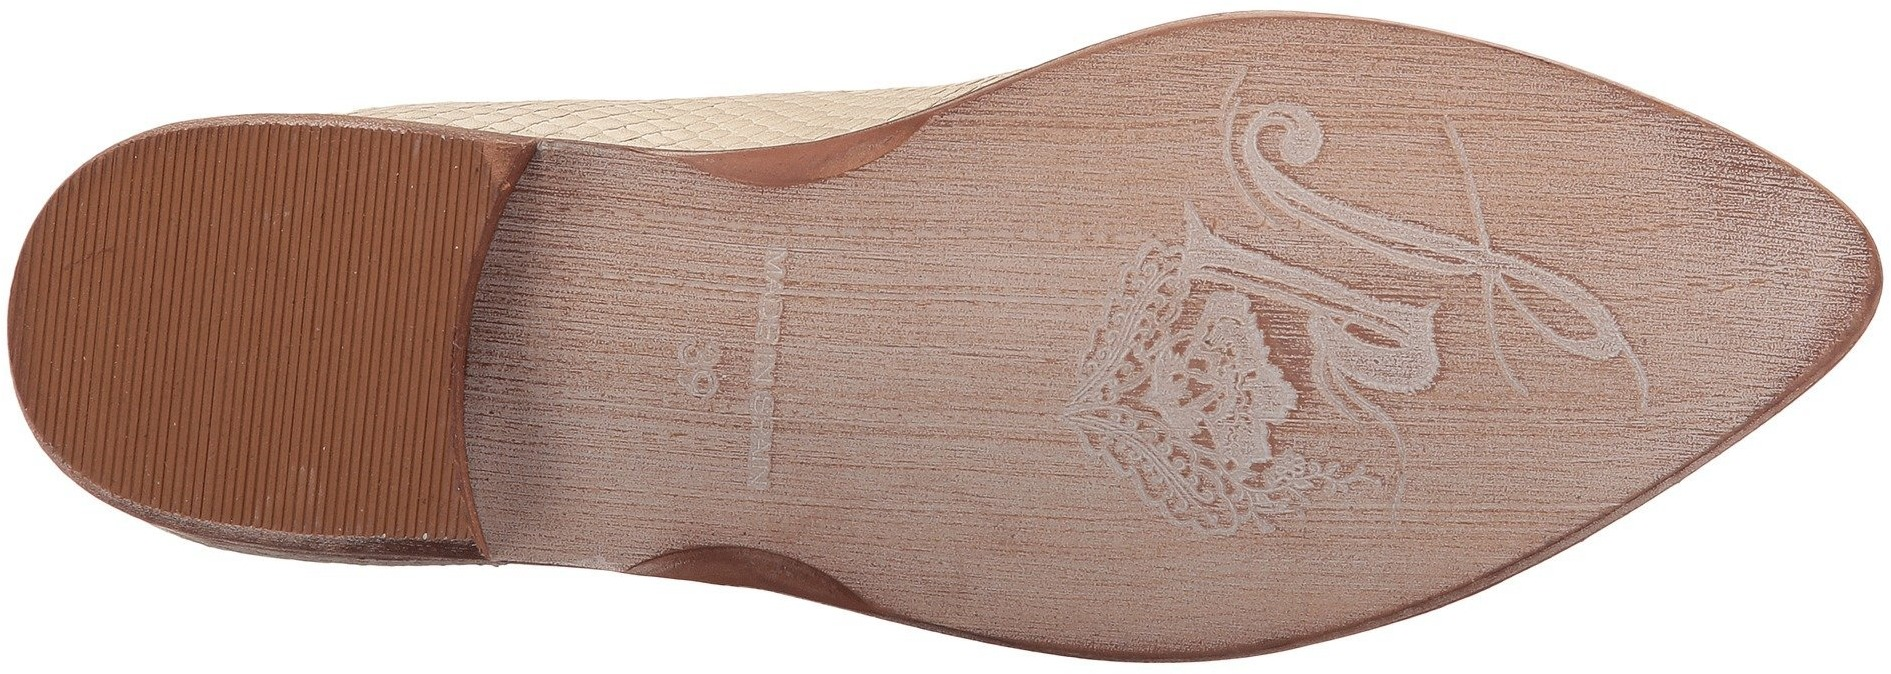other: (88, 168, 392, 496)
